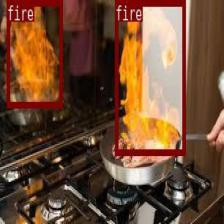fire: (114, 0, 185, 155), (6, 0, 62, 107)
